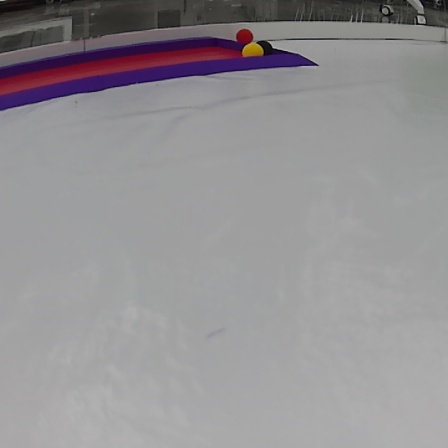black: (260, 42, 273, 53)
red: (237, 28, 254, 44)
red_aim: (0, 36, 327, 108)
yellow: (243, 45, 263, 58)
